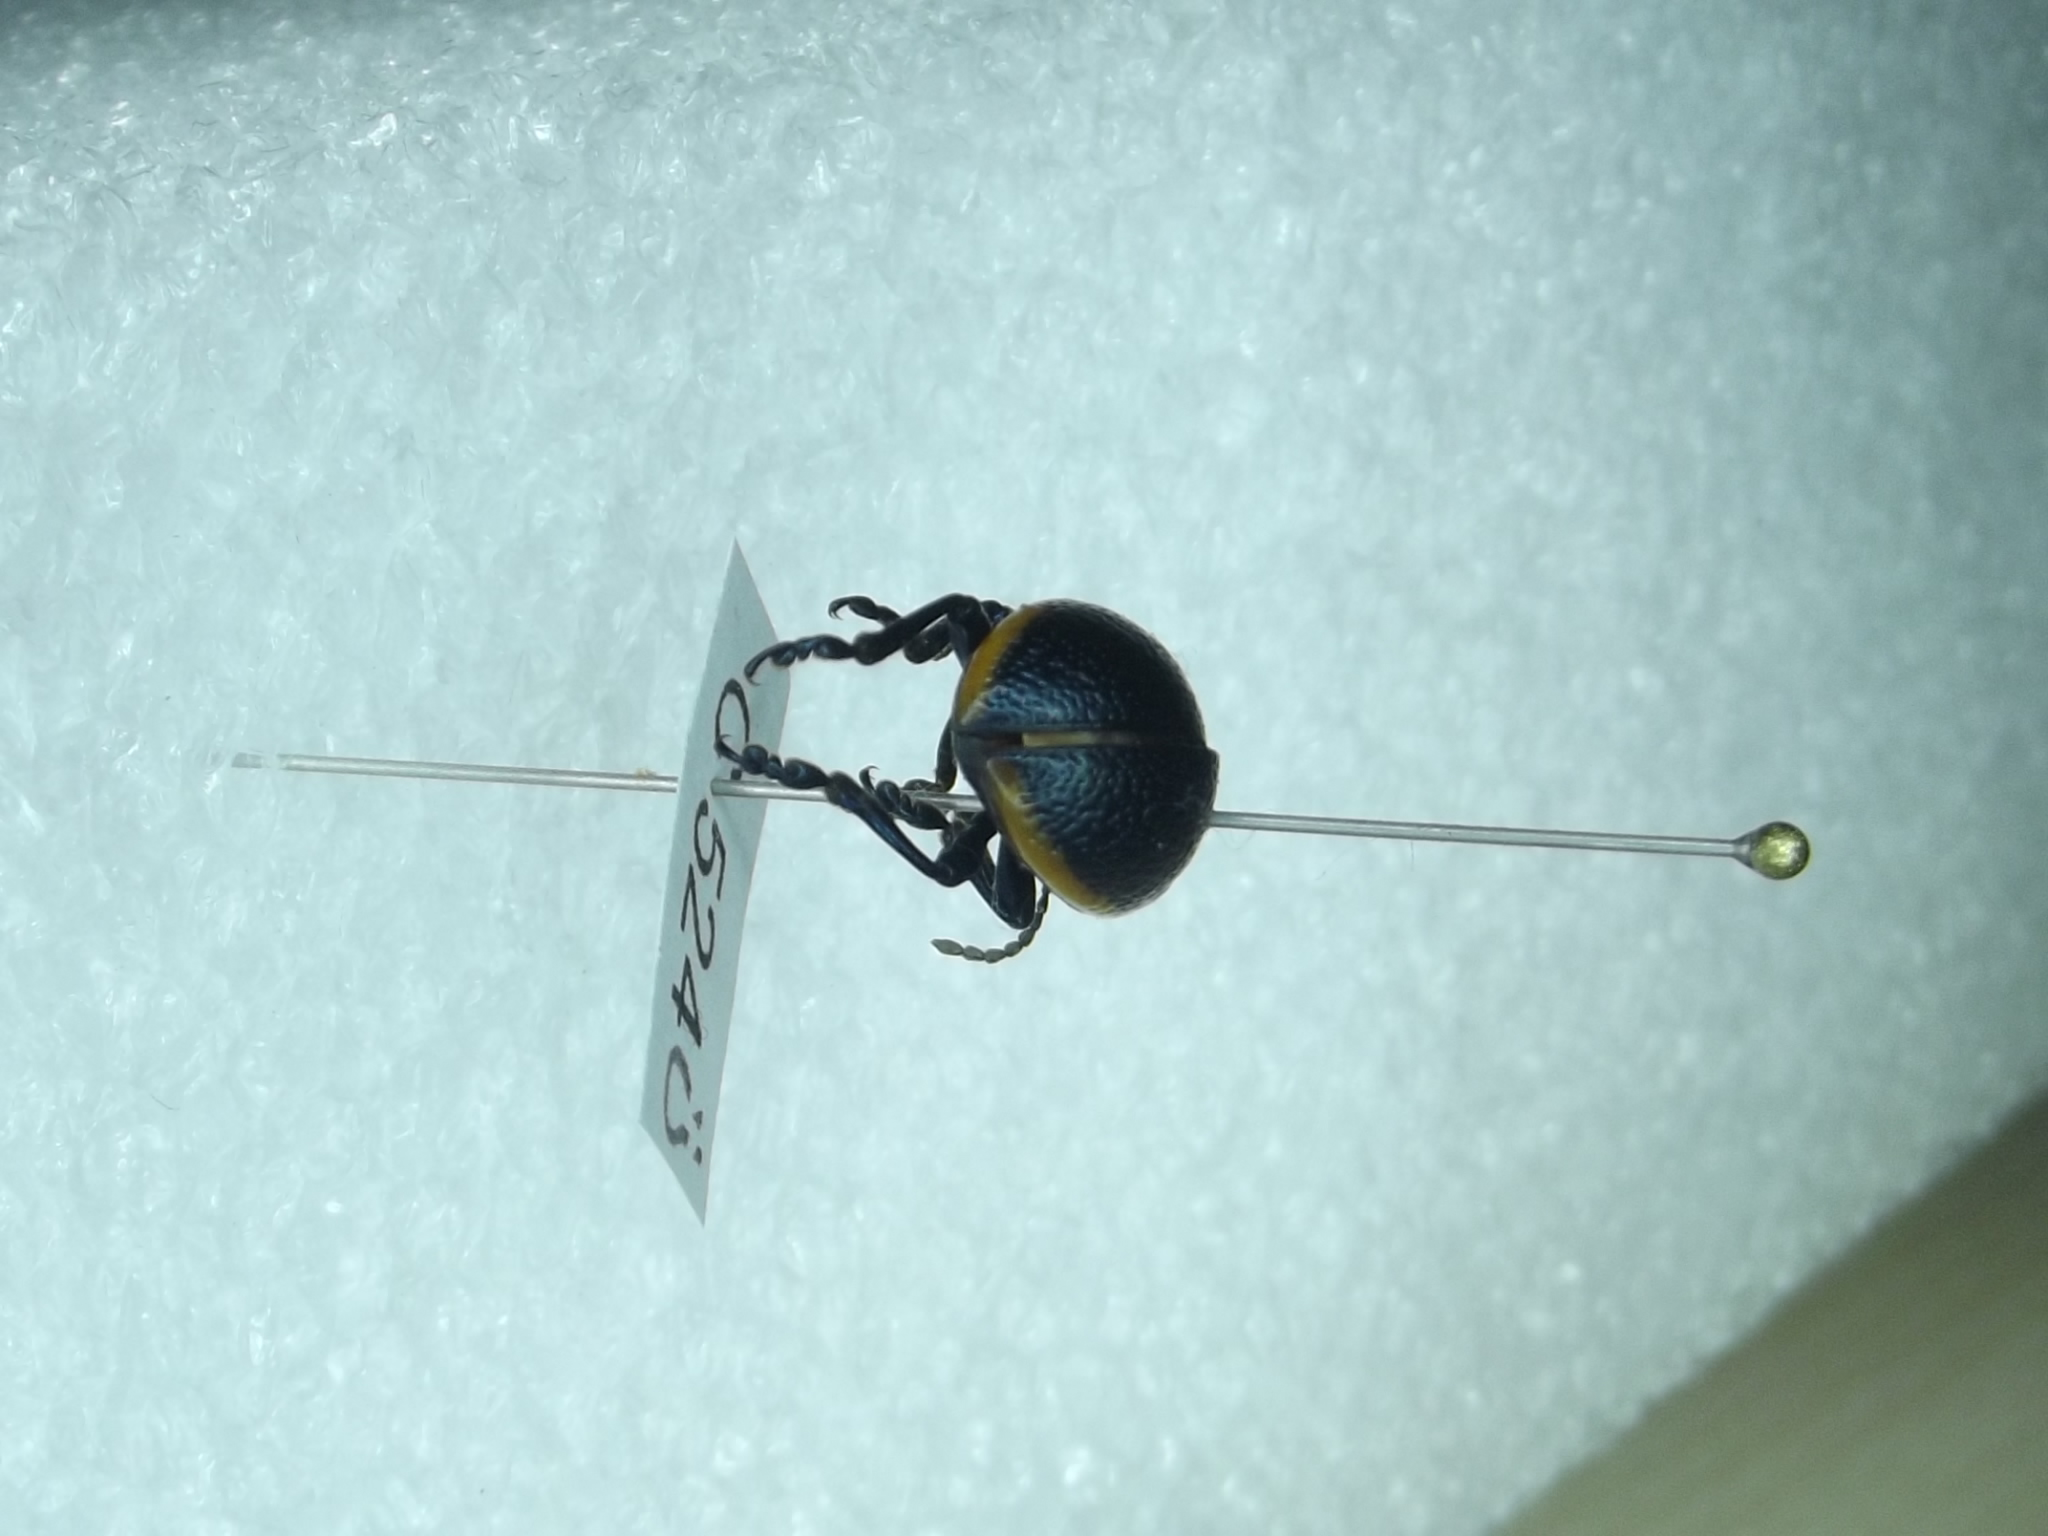Chrysolina_gypsophila: (714, 560, 1222, 971)
